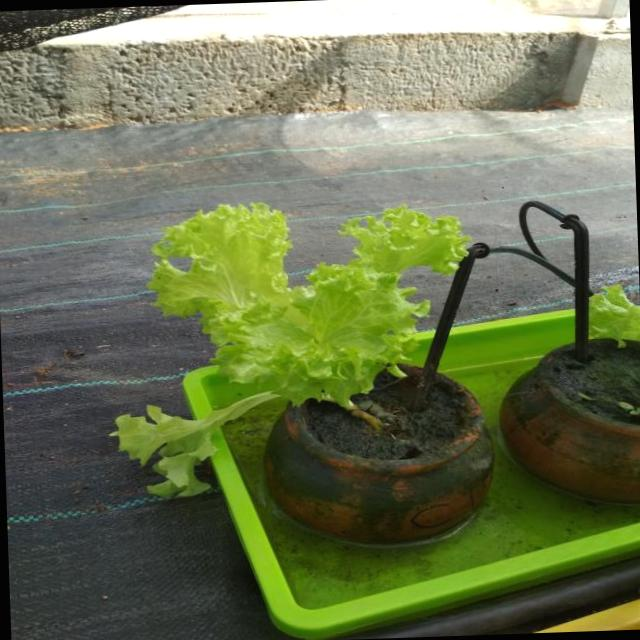Lettuce-Not-Ready-to-Harvest: (102, 197, 473, 506)
